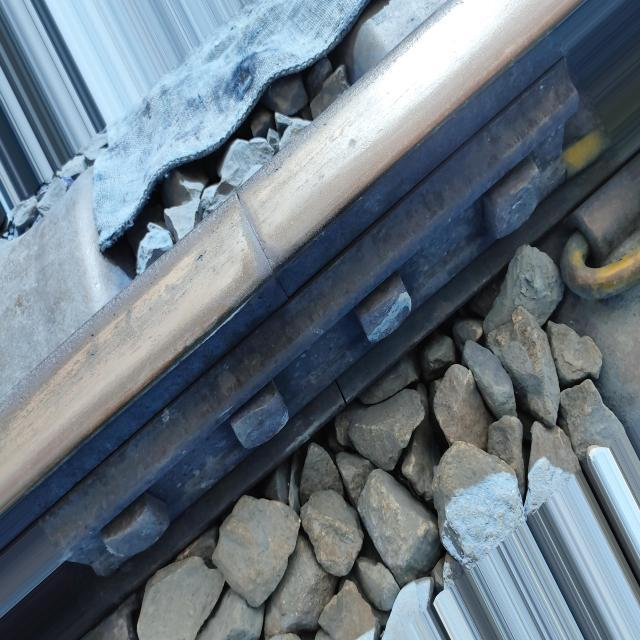Good Fasteners: (560, 232, 640, 299)
Good Joint: (39, 59, 579, 575)
